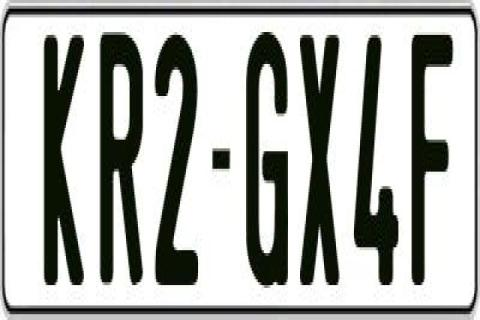0: (351, 32, 401, 300), (152, 26, 198, 276)
F: (408, 32, 450, 296)
G: (244, 29, 292, 299)
K: (43, 32, 86, 285)
R: (98, 29, 144, 294)
X: (300, 32, 342, 288)
